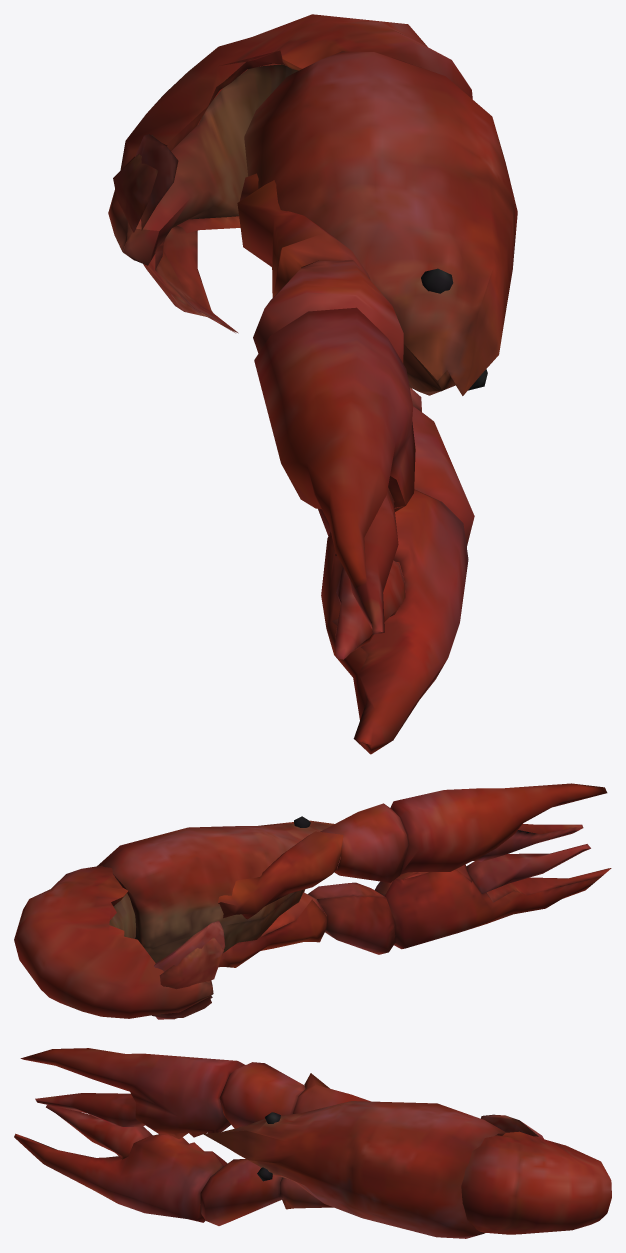
Rendered from RedShrimp.glb.
3 views of the same model, one above another, from view 1: azimuth 30°, elevation 25°; view 2: azimuth 150°, elevation 25°; view 3: azimuth 270°, elevation 25° (orthographic). The views are drawn at different scales.
Visible parts, largest first — view 1: xia037; view 2: xia037; view 3: xia037.
Boxes of the visible parts, x1,y1,x2,y2 form: xia037: [108, 14, 517, 754]; xia037: [14, 783, 611, 1019]; xia037: [14, 1048, 611, 1238].
Bounding box in the file's own units: 1.27 × 0.6396 × 2.21.
1 material, 1 textured.
